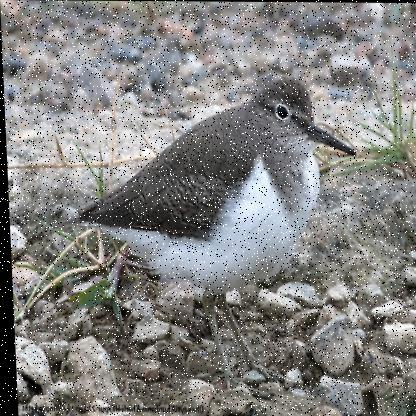Burung: (54, 73, 367, 398)
